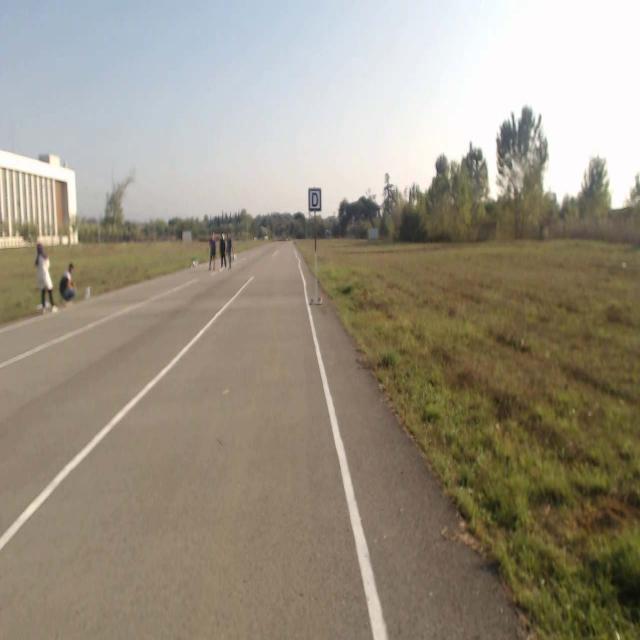durak: (308, 188, 322, 210)
